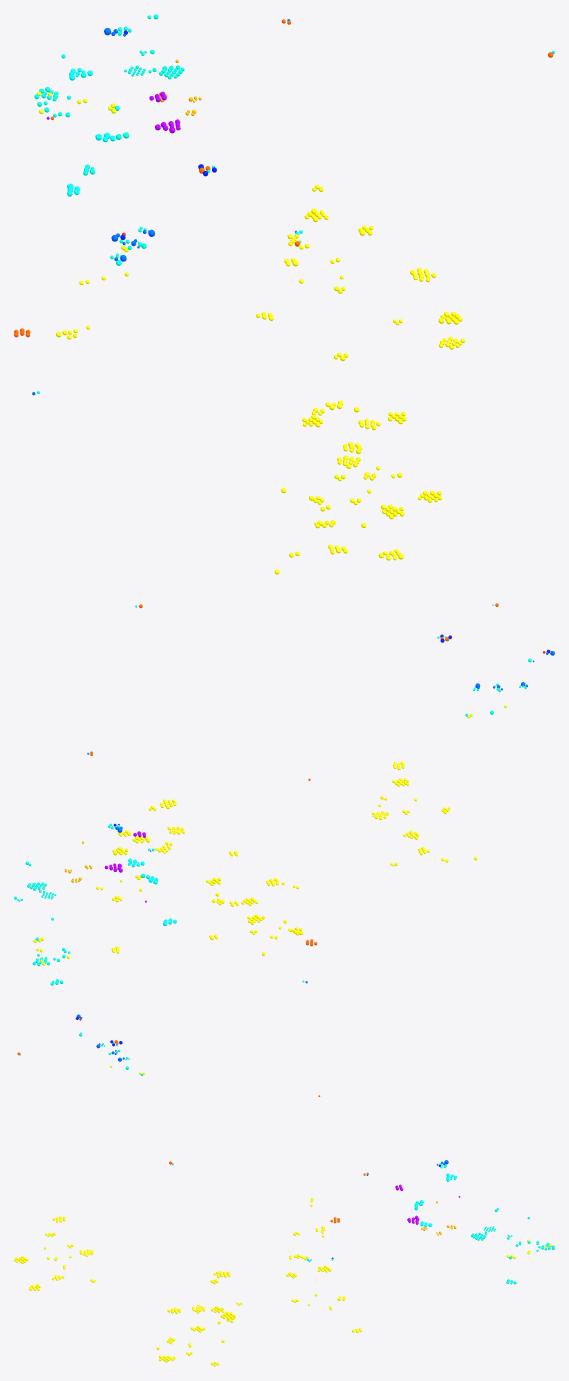
The model's file is task-237c72405-layout.gltf.
The picture shows the model from 3 angles, top to bottom: view 1: azimuth 30°, elevation 25°; view 2: azimuth 150°, elevation 25°; view 3: azimuth 270°, elevation 25°; orthographic projection. The views are drawn at different scales.
Parts seen in each view (by area): view 1: normal_java_files, normal_js_files; view 2: normal_java_files, normal_js_files; view 3: normal_java_files, normal_js_files.
Boxes of the visible parts, box(x1,y1,x2,y2) form: normal_java_files: box(56, 184, 464, 574); normal_js_files: box(34, 14, 184, 393); normal_java_files: box(96, 761, 477, 955); normal_js_files: box(14, 658, 531, 985); normal_java_files: box(14, 1198, 361, 1366); normal_js_files: box(79, 1033, 554, 1284).
Bounding box in the file's own units: 298 × 236 × 456.
